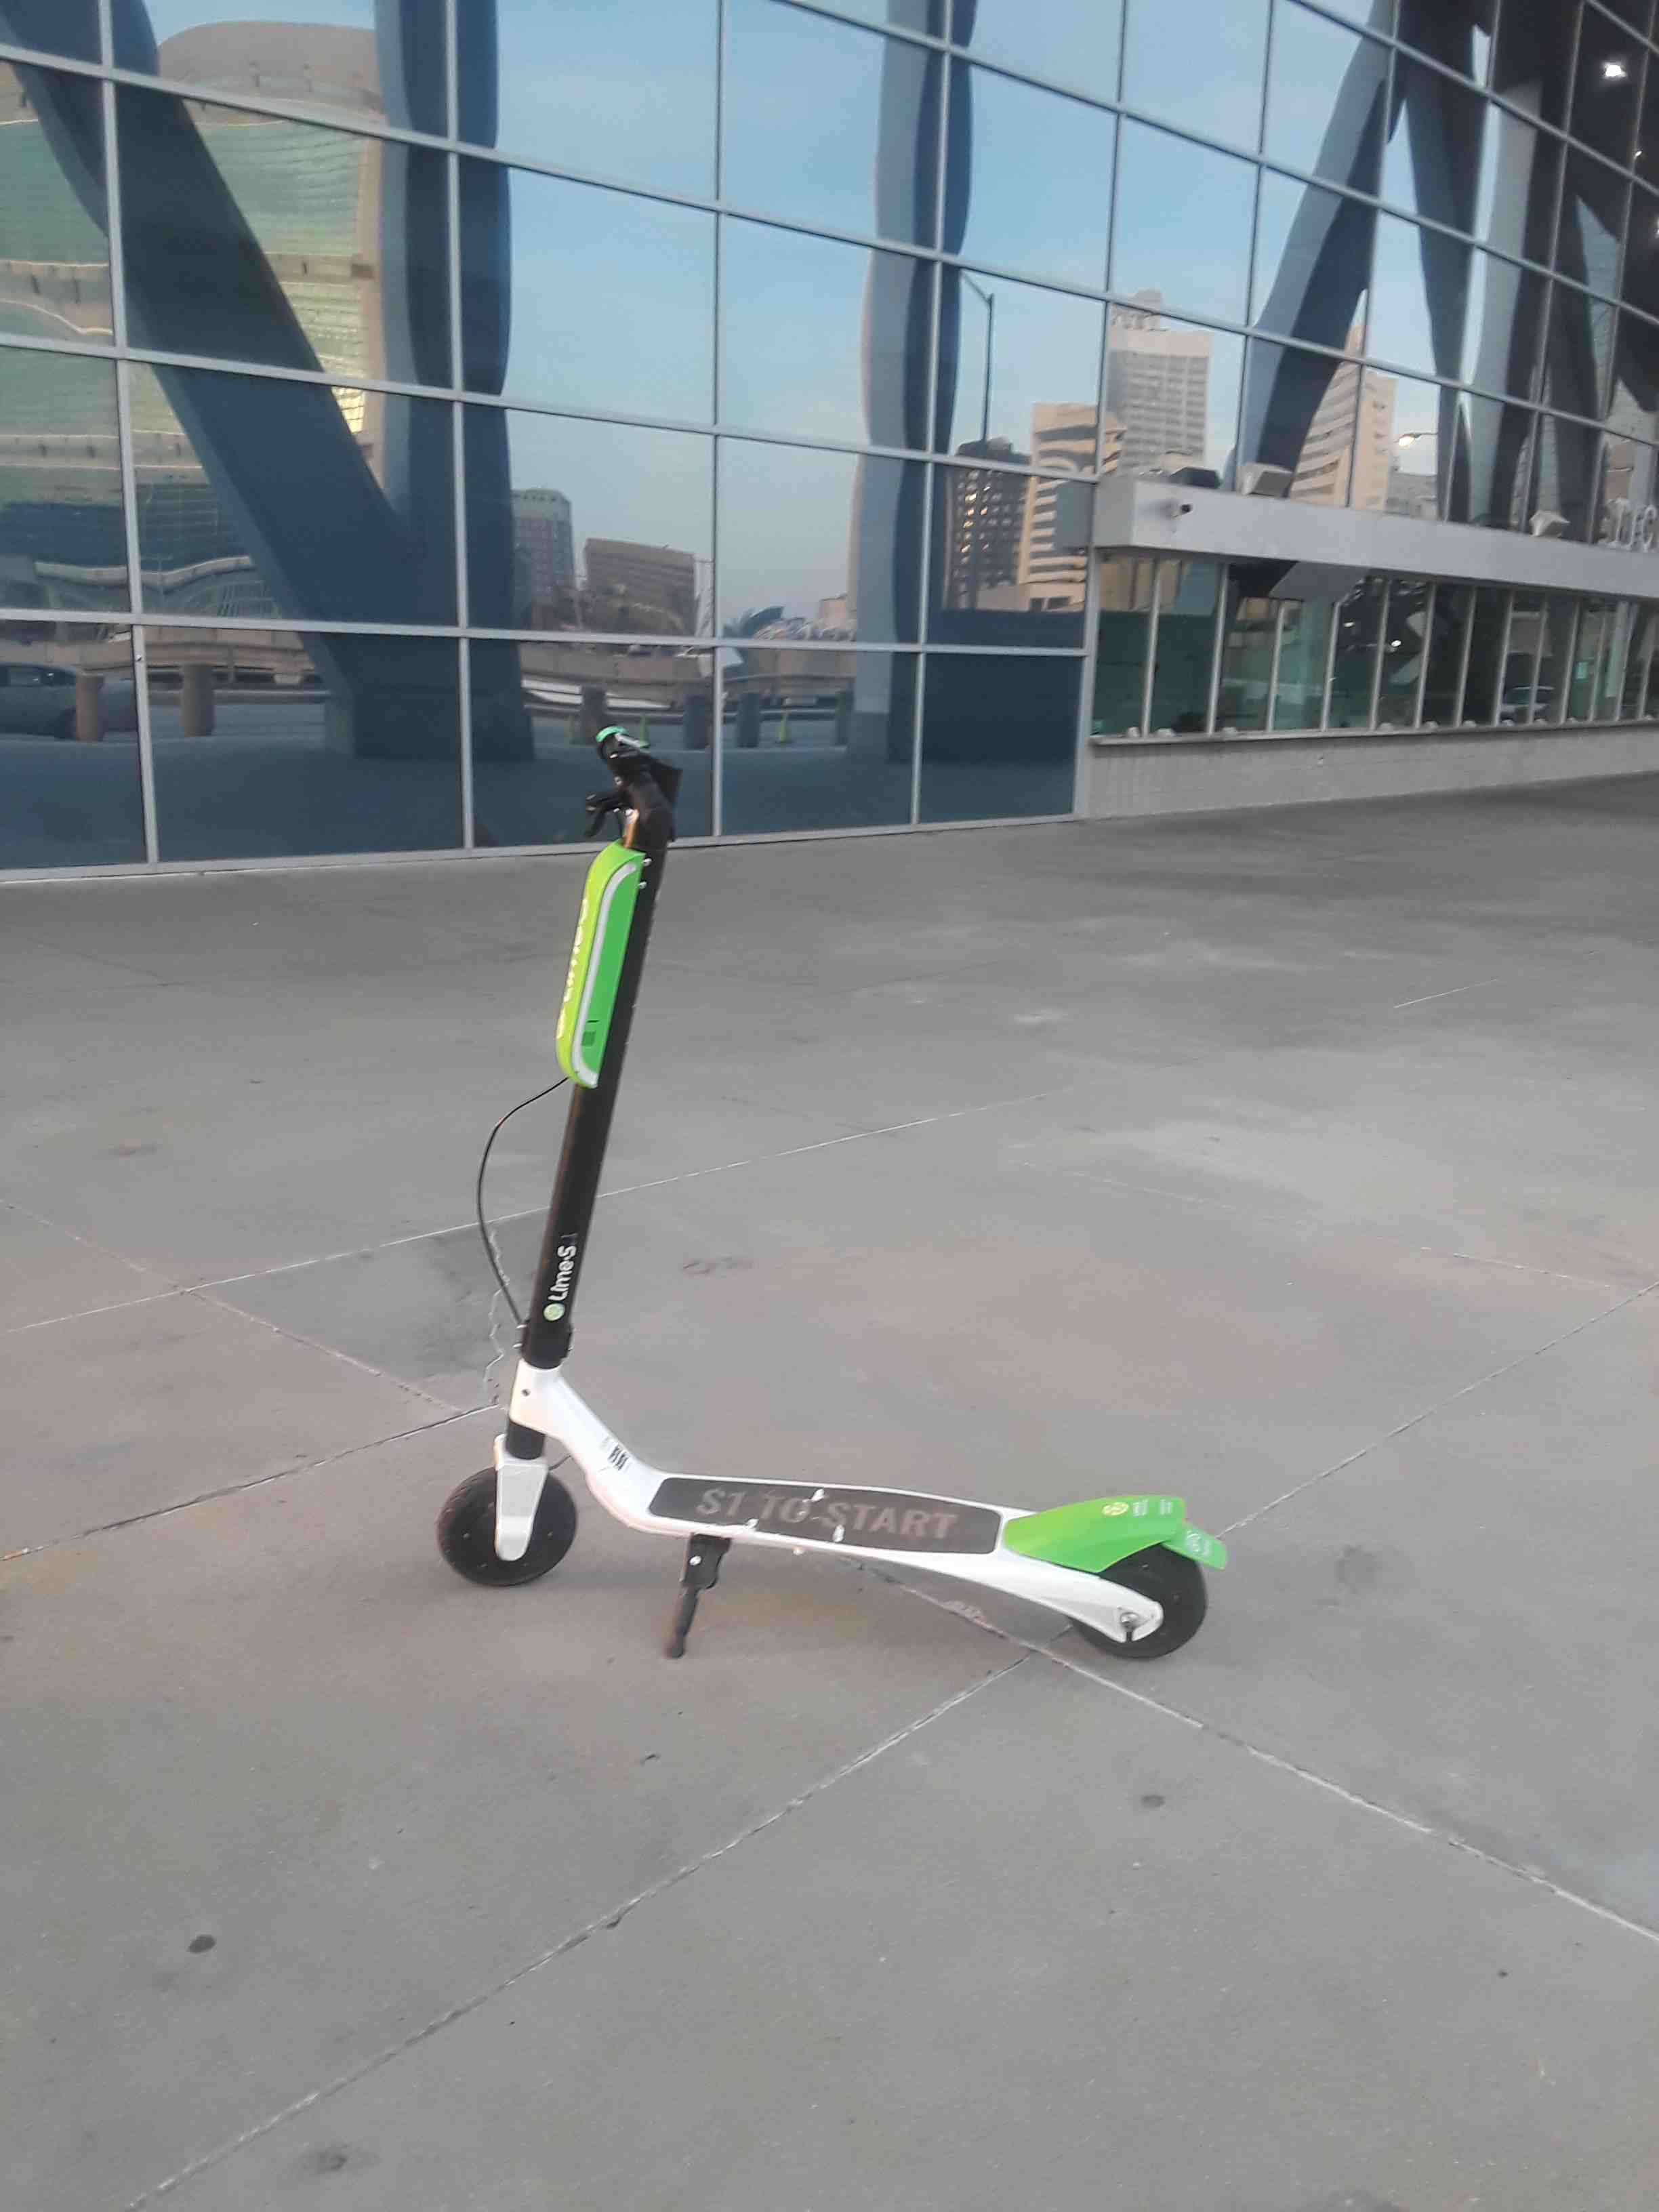scooter: (423, 678, 1274, 1676)
